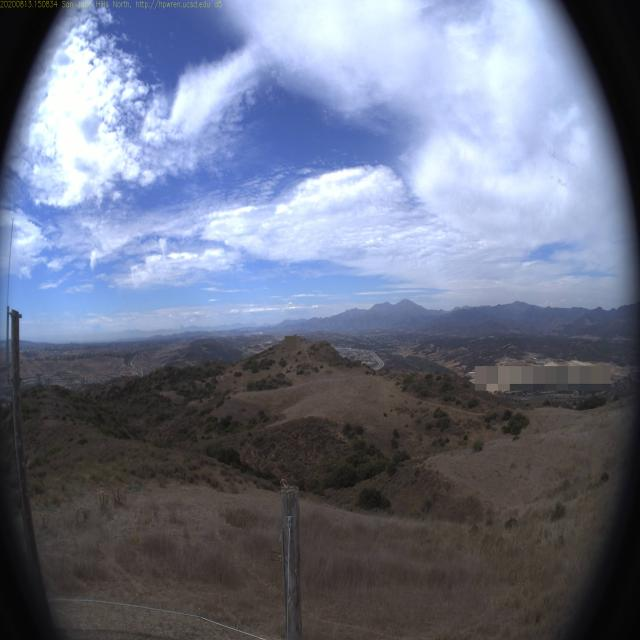smoke: (173, 300, 189, 340)
